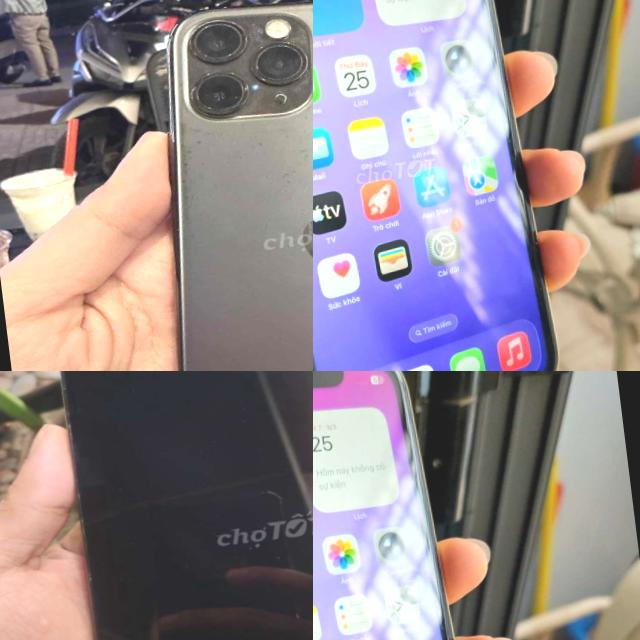gen_11: (313, 0, 571, 371), (166, 1, 313, 371), (313, 371, 504, 640)
gen_12_13: (45, 371, 313, 640)
